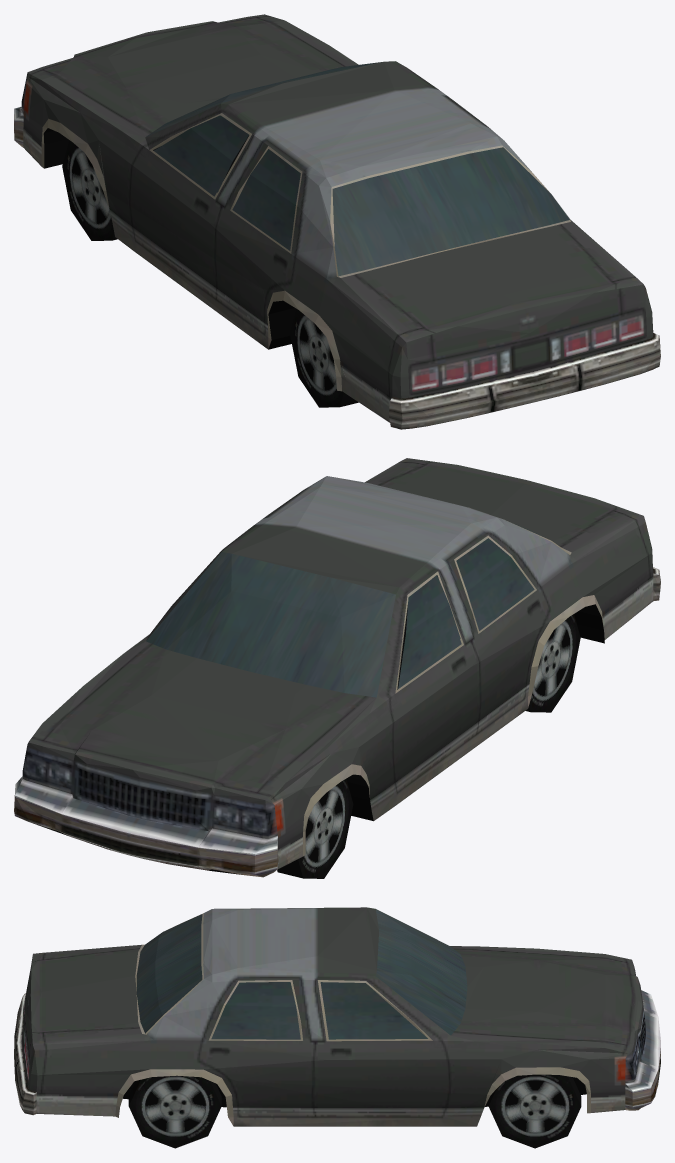
The model's file is CarrosemmCimento.fbx.
3 views of the same model, one above another, from view 1: azimuth 30°, elevation 25°; view 2: azimuth 150°, elevation 25°; view 3: azimuth 270°, elevation 25° (orthographic). The views are drawn at different scales.
Visible parts, largest first — view 1: car3, car3.001; view 2: car3, car3.001; view 3: car3.
Boxes of the visible parts, x1,y1,x2,y2 form: car3: (14, 14, 660, 429); car3.001: (154, 115, 248, 196); car3: (14, 458, 660, 878); car3.001: (398, 575, 461, 688); car3: (14, 907, 660, 1148).
Bounding box in the file's own units: 159 × 118 × 414.
